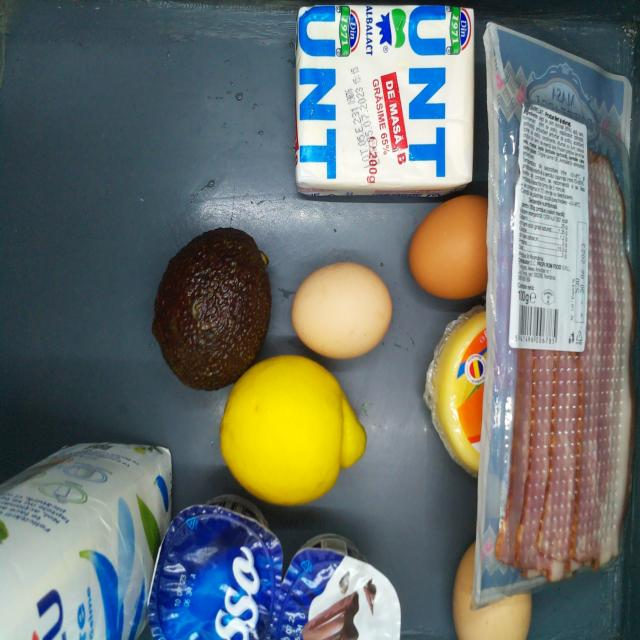avocado: (157, 226, 270, 388)
bacon: (486, 29, 632, 580)
butter: (294, 7, 472, 192)
cheese: (425, 308, 486, 477)
eggs: (293, 262, 392, 361), (408, 195, 487, 302), (457, 553, 531, 640)
lemon: (222, 355, 367, 507)
milk: (1, 441, 170, 640)
yogurt: (157, 497, 280, 640), (283, 534, 401, 640)
